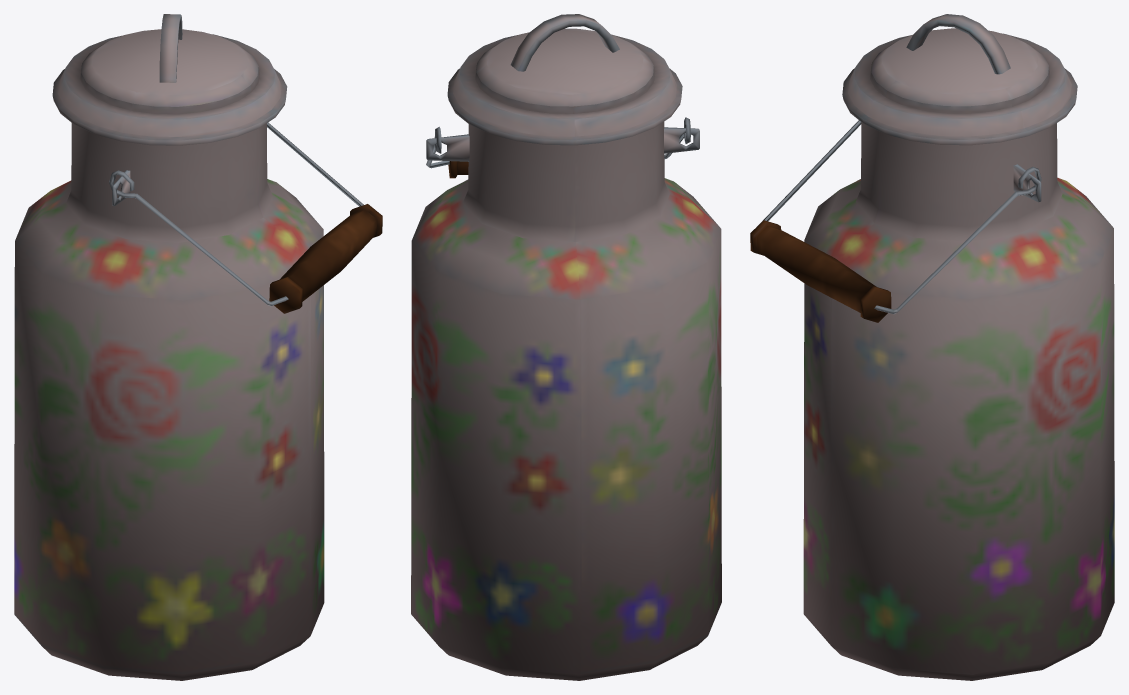
Rendered from loot_water.glb.
3 renders of one model, left to right at view 1: azimuth 30°, elevation 25°; view 2: azimuth 150°, elevation 25°; view 3: azimuth 270°, elevation 25°, orthographic.
Visible parts, largest first — view 1: loot_water_mesh; view 2: loot_water_mesh; view 3: loot_water_mesh.
Part boxes in pixels (x1,y1,x2,y2): loot_water_mesh: (14, 14, 382, 680); loot_water_mesh: (411, 14, 721, 680); loot_water_mesh: (750, 14, 1114, 680).
Bounding box in the file's own units: 0.319 × 0.6 × 0.3291.
1 material, 1 textured.
